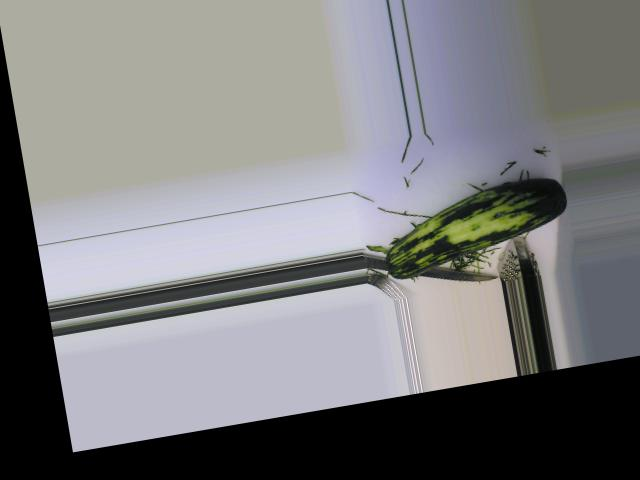cucumber: (374, 173, 574, 282)
